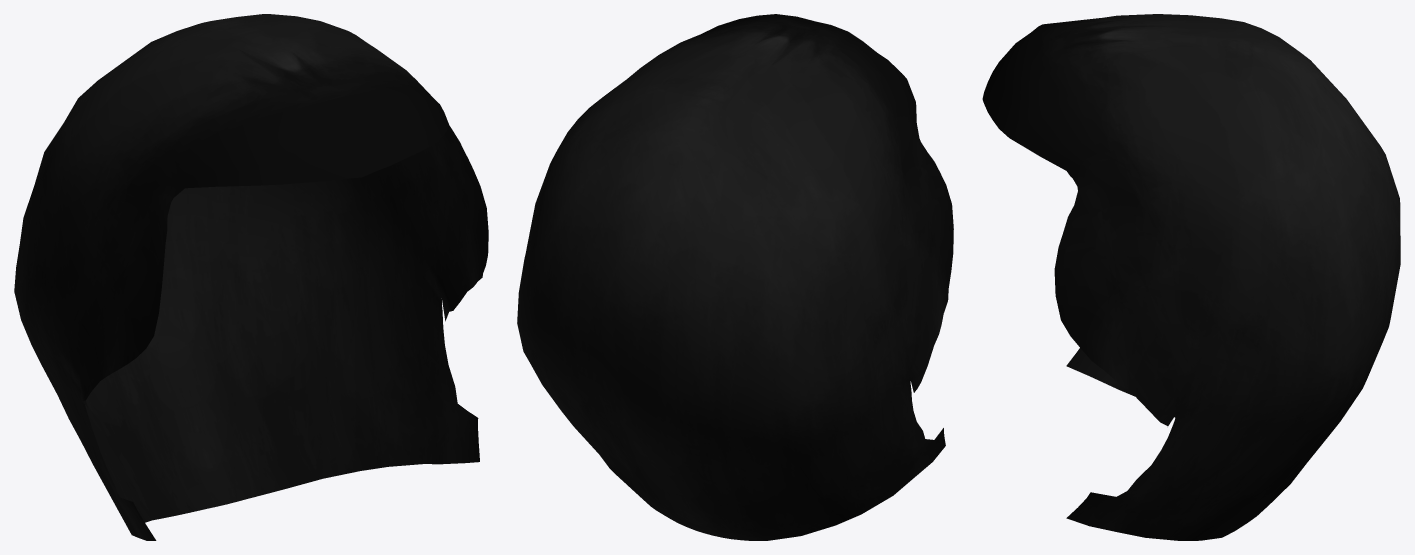
File: Crew aka buzz cut.fbx
3 views of the same model, side by side, from view 1: azimuth 30°, elevation 25°; view 2: azimuth 150°, elevation 25°; view 3: azimuth 270°, elevation 25° (orthographic). The views are drawn at different scales.
Parts seen in each view (by area): view 1: bald hair.001; view 2: bald hair.001; view 3: bald hair.001.
Part boxes in pixels (left/top/right/bottom): bald hair.001: left=14, top=14, right=488, bottom=540; bald hair.001: left=517, top=14, right=953, bottom=540; bald hair.001: left=982, top=14, right=1400, bottom=540.
Size of the model in its own units: 16243 by 20544 by 16453.
Materials: 1 (1 with a texture image).
